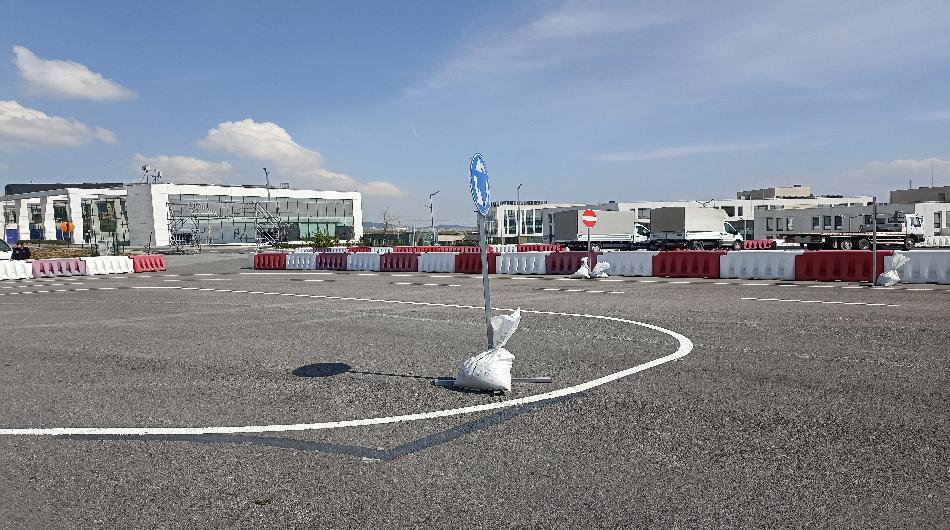ada: (468, 153, 493, 213)
girilmez: (582, 209, 599, 232)
